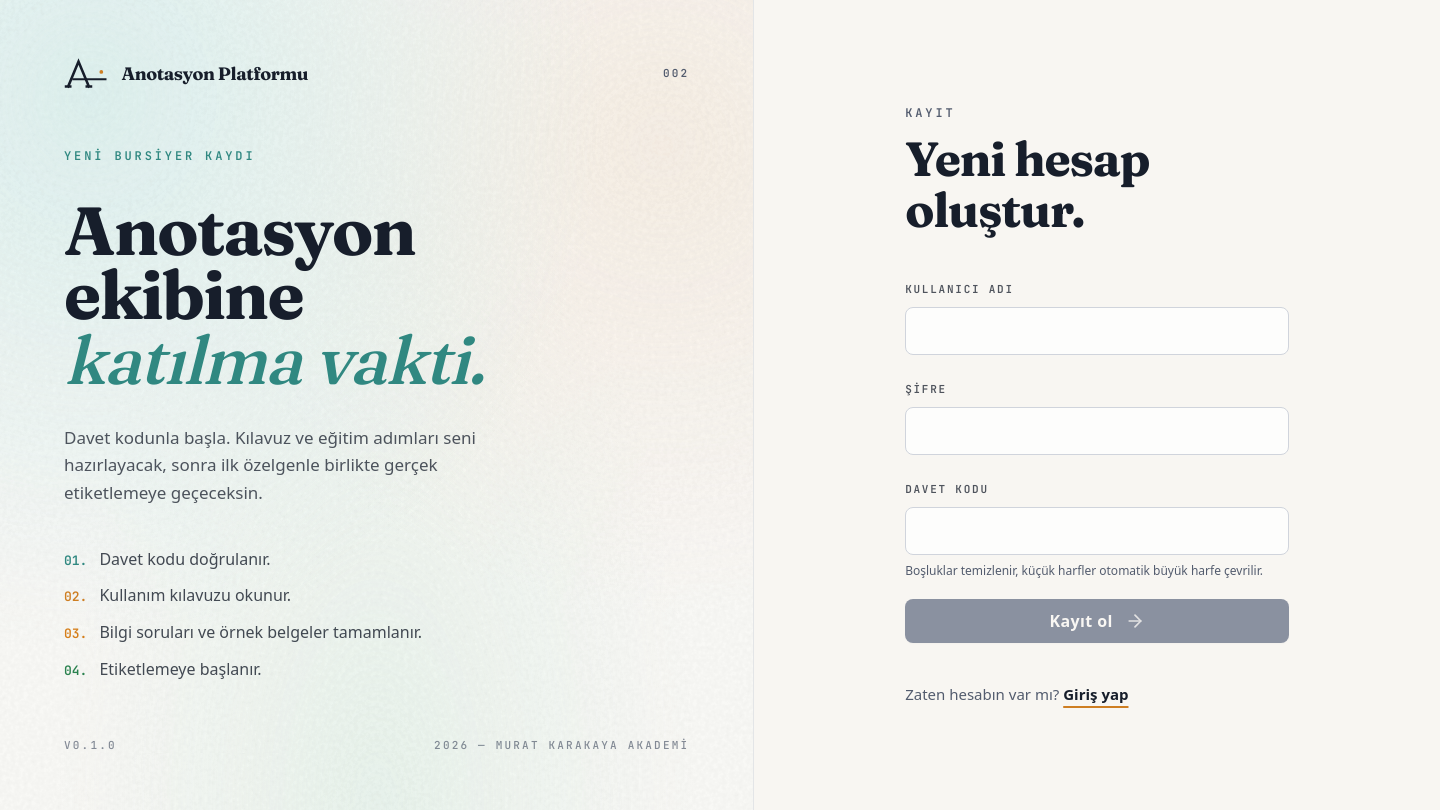
Test: Register route › on 409 username taken: shows error
The image size is (1440, 810).
Type "newone" into the field labelled "Kullanıcı adı" at (1097, 331), box [905, 307, 1289, 355]
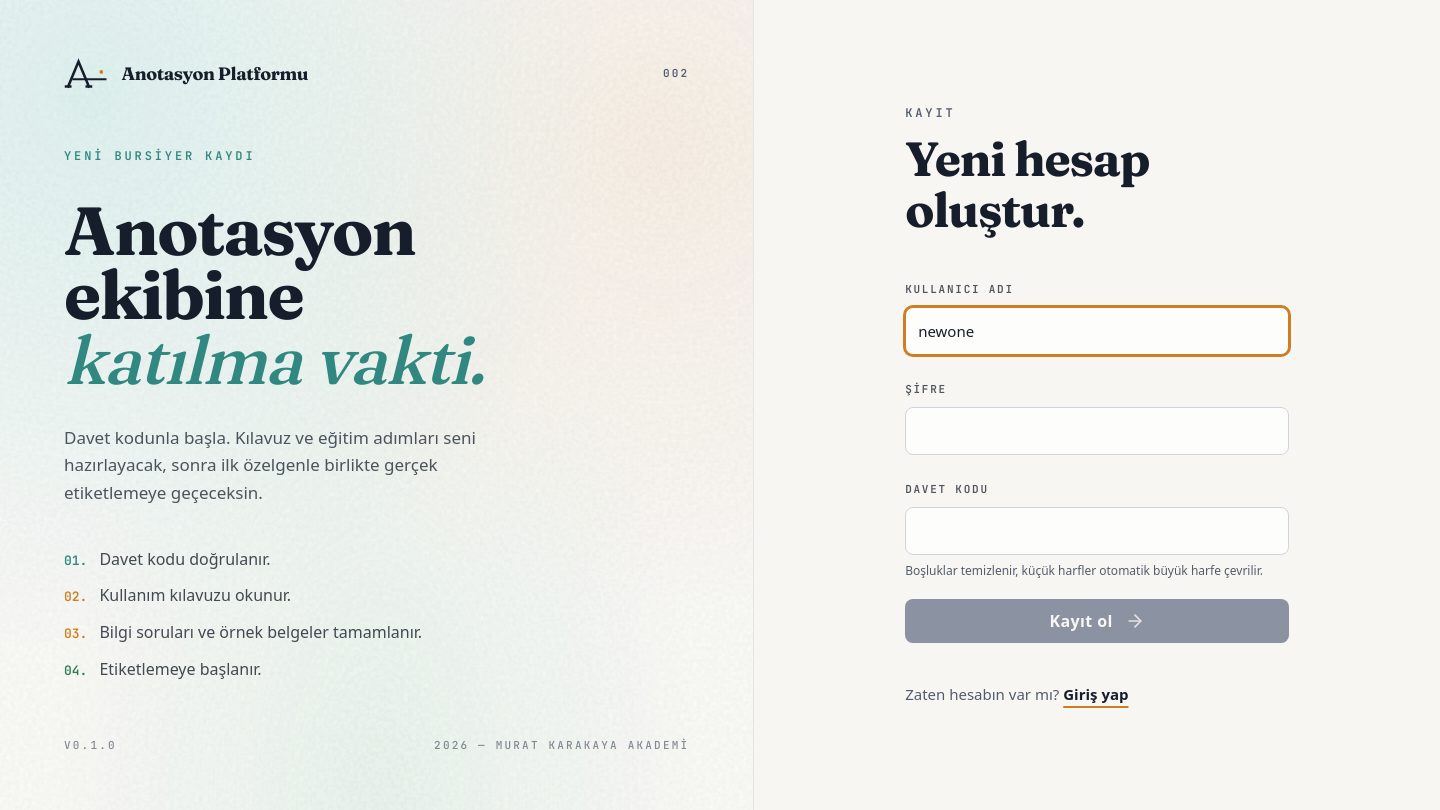
Type "StrongPw1!" into the password field labelled "Şifre" at (1097, 431), box [905, 407, 1289, 455]
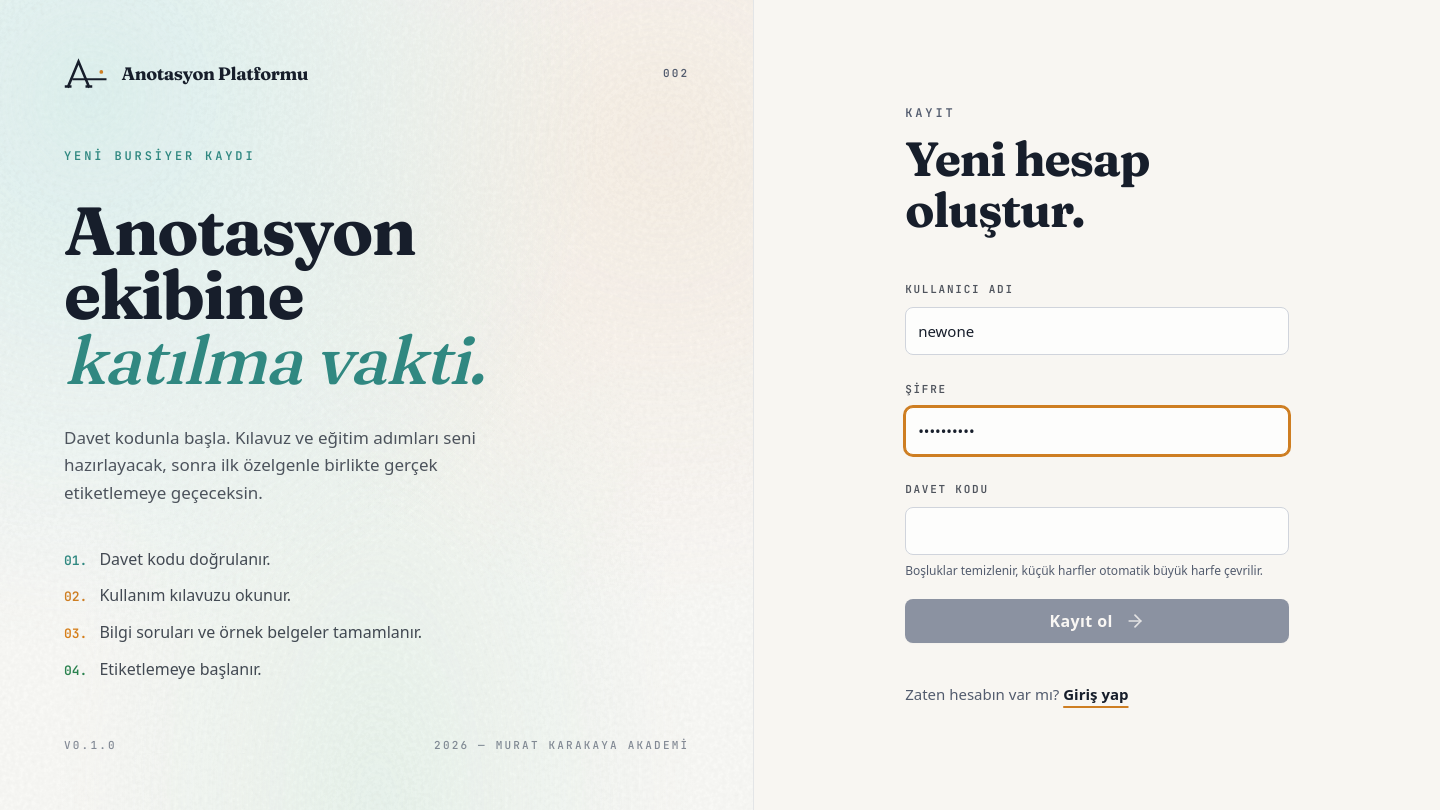
Type "XYZ" into the field labelled "Davet kodu" at (1097, 531), box [905, 507, 1289, 555]
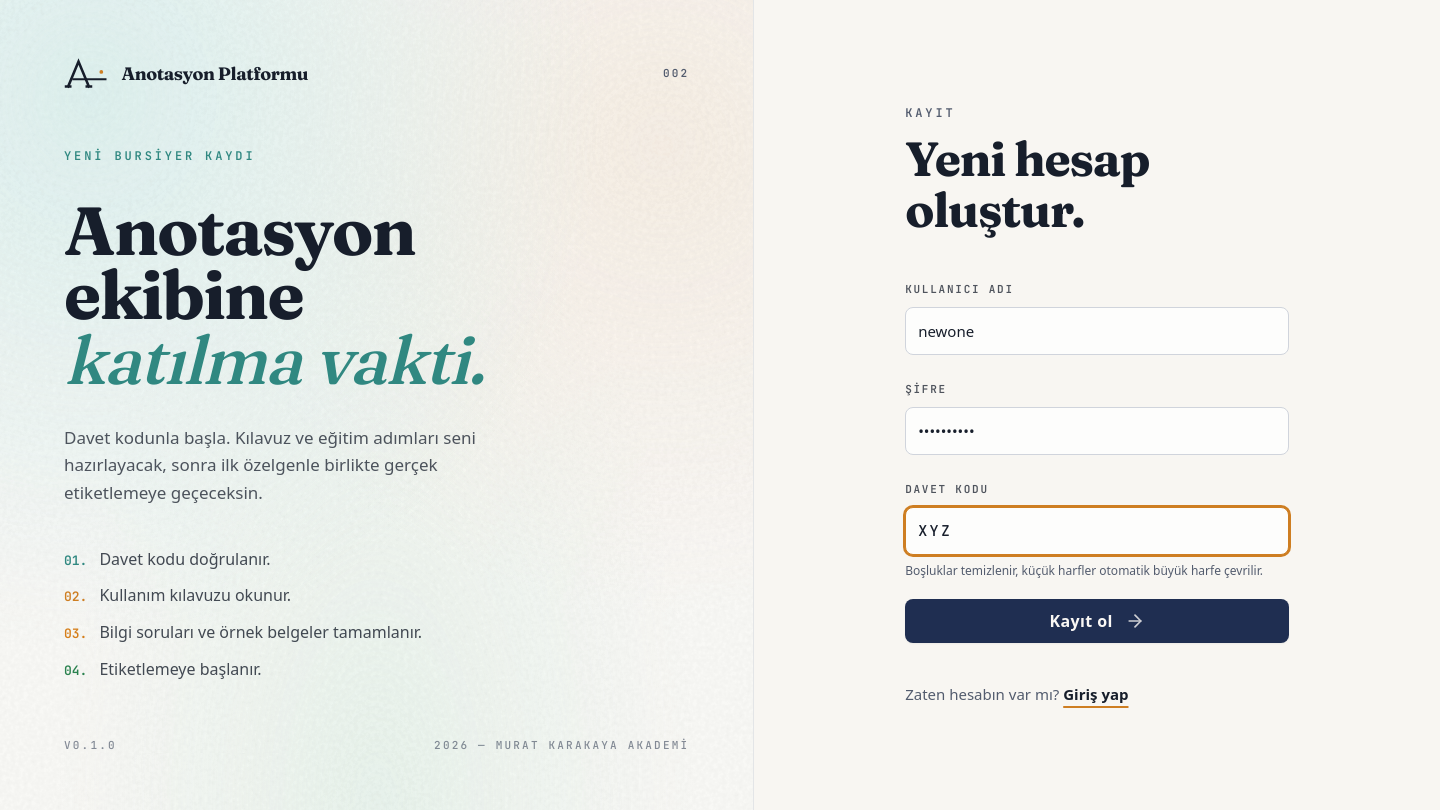
Click the button "Kayıt ol" at (1097, 621), box [905, 599, 1289, 643]
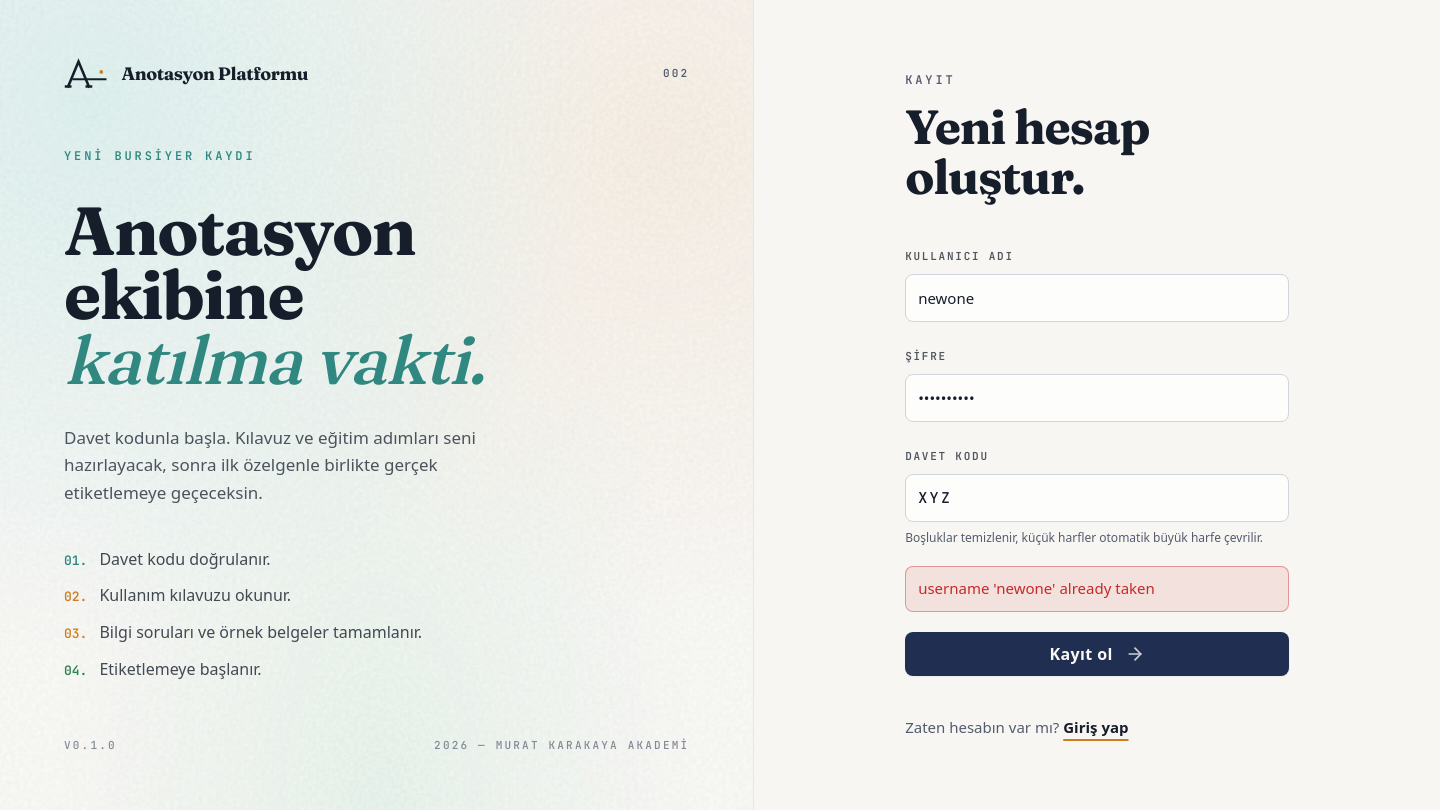
Check: the text "username 'newone' already taken" is shown, box [905, 566, 1289, 612]
